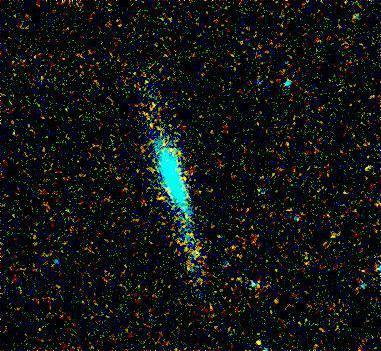star: (246, 325, 276, 351)
